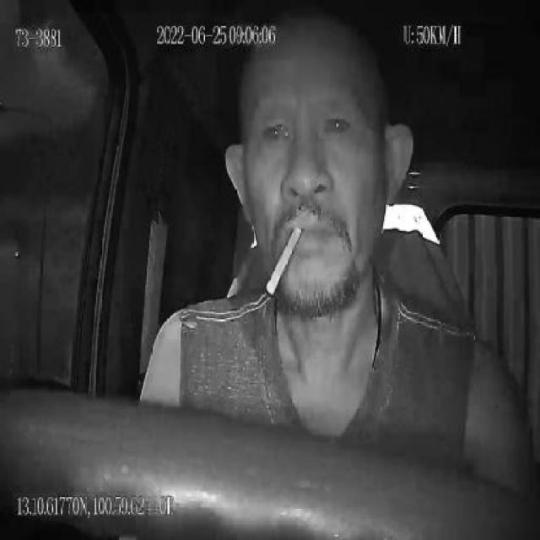smoking: (264, 223, 302, 295)
